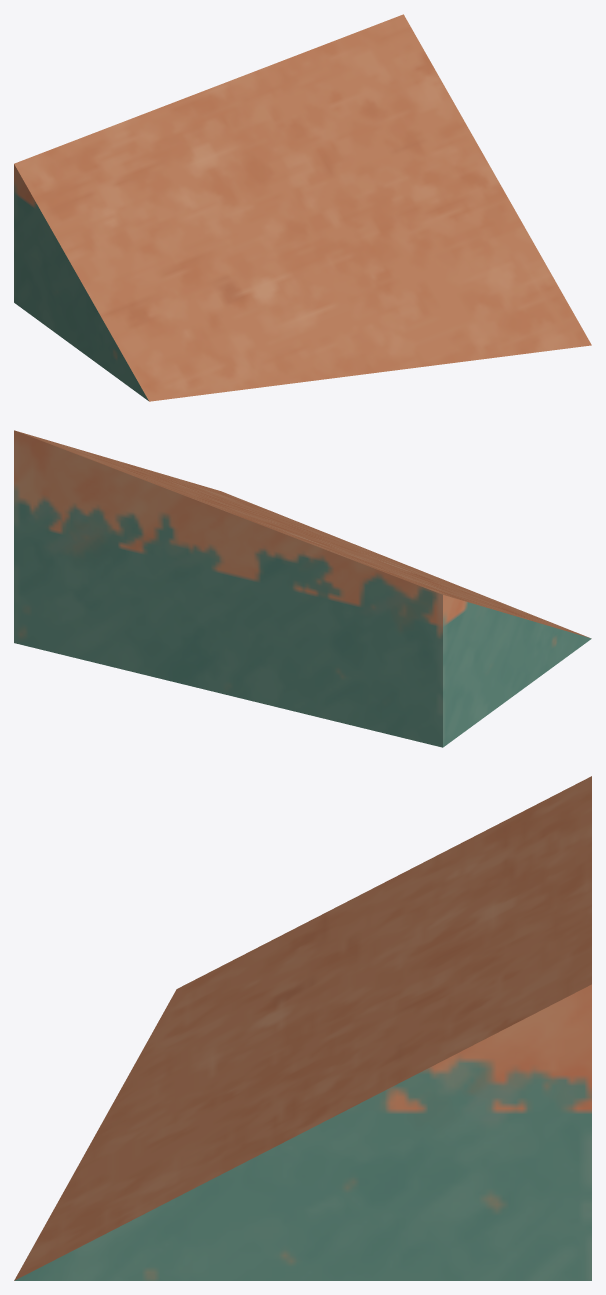
File: townwall_tower_s11.fbx
The picture shows the model from 3 angles, top to bottom: view 1: azimuth 30°, elevation 25°; view 2: azimuth 150°, elevation 25°; view 3: azimuth 270°, elevation 25°; orthographic projection. The views are drawn at different scales.
Visible parts, largest first — view 1: townwall_tower_s11; view 2: townwall_tower_s11; view 3: townwall_tower_s11.
Boxes of the visible parts, x1,y1,x2,y2 form: townwall_tower_s11: [14, 14, 591, 401]; townwall_tower_s11: [14, 430, 591, 747]; townwall_tower_s11: [14, 776, 591, 1280].
Bounding box in the file's own units: 6.6 × 3.13 × 5.53.
